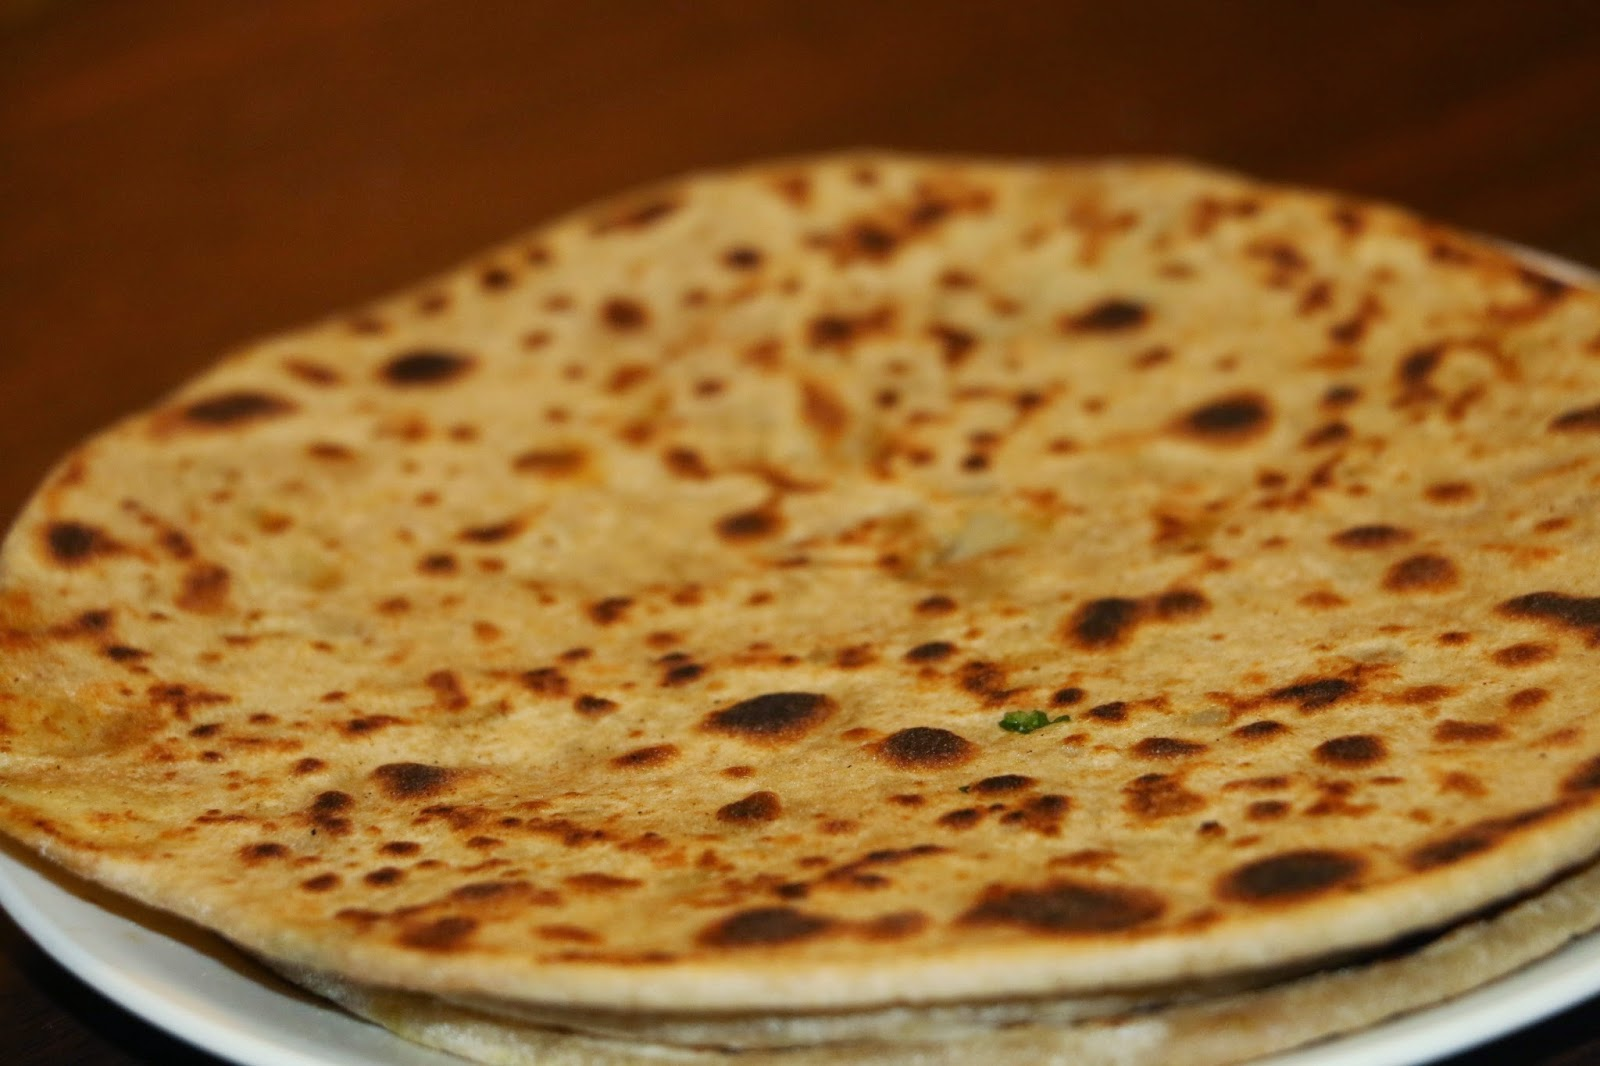aloo_paratha: (1, 155, 1593, 1042)
